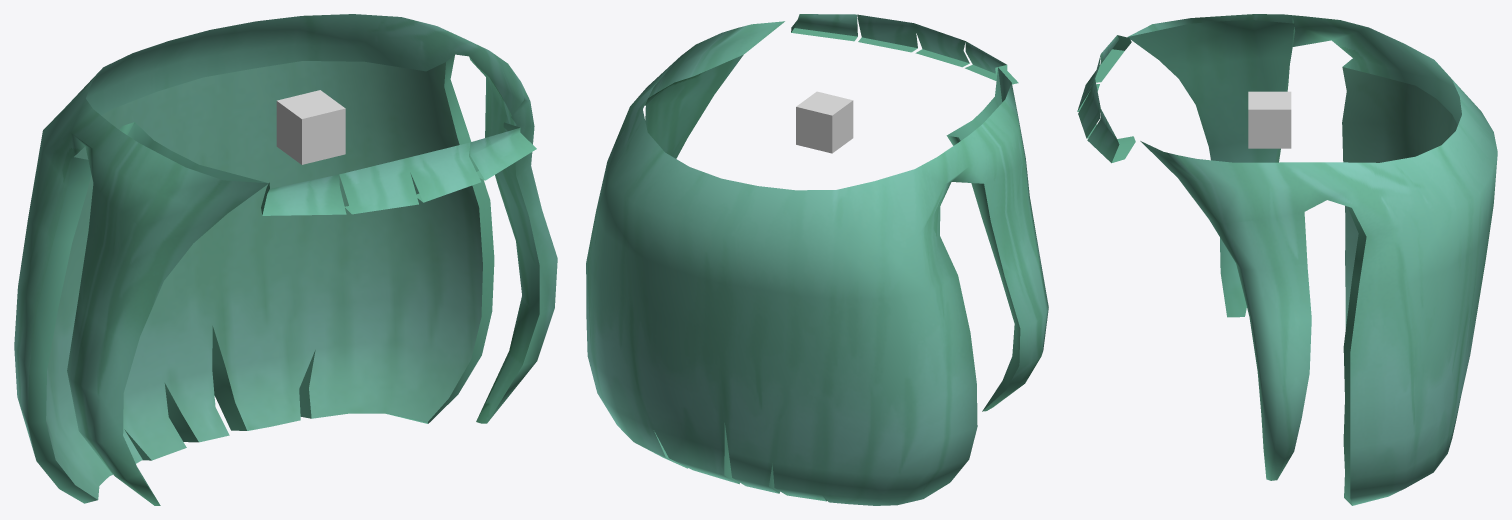
The model's file is girl_hair2.FBX.
3 views of the same model, side by side, from view 1: azimuth 30°, elevation 25°; view 2: azimuth 150°, elevation 25°; view 3: azimuth 270°, elevation 25° (orthographic). The views are drawn at different scales.
Visible parts, largest first — view 1: girl_hair13, faceSpawn; view 2: girl_hair13, faceSpawn; view 3: girl_hair13, faceSpawn.
Boxes of the visible parts, left/top/right/bottom form: girl_hair13: left=14, top=14, right=557, bottom=505; faceSpawn: left=276, top=90, right=345, bottom=164; girl_hair13: left=586, top=14, right=1048, bottom=505; faceSpawn: left=796, top=91, right=853, bottom=153; girl_hair13: left=1077, top=14, right=1497, bottom=505; faceSpawn: left=1248, top=91, right=1291, bottom=148.
Size of the model in its own units: 56.4 by 45.78 by 48.83.
1 material, 1 textured.
